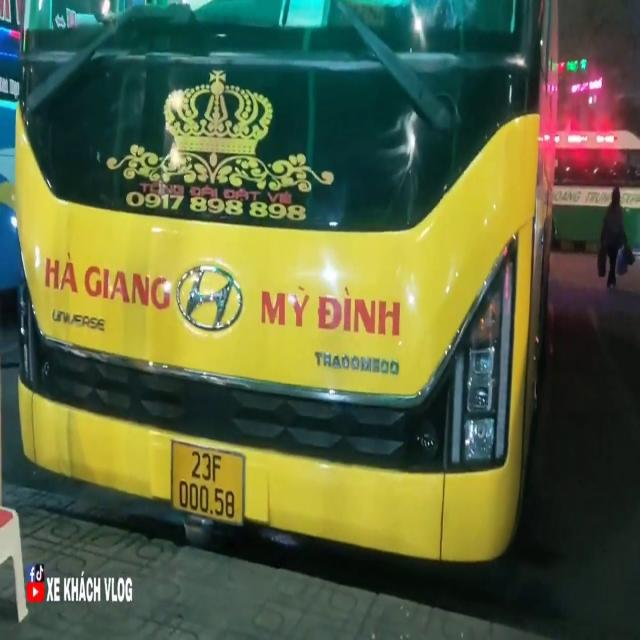bien_vang: (171, 437, 245, 529)
